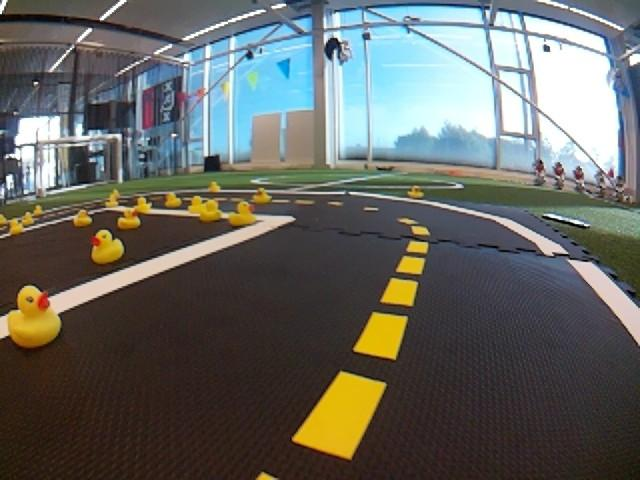Duckies: (8, 286, 61, 349), (91, 230, 124, 264), (229, 201, 255, 226), (118, 207, 141, 229), (200, 201, 220, 222), (74, 210, 92, 227), (188, 196, 205, 213), (165, 192, 182, 208), (134, 197, 151, 213), (253, 188, 271, 202), (9, 219, 23, 234), (22, 212, 34, 227), (105, 194, 118, 207), (32, 205, 43, 216), (209, 182, 220, 192), (0, 214, 7, 226), (111, 189, 119, 198)
